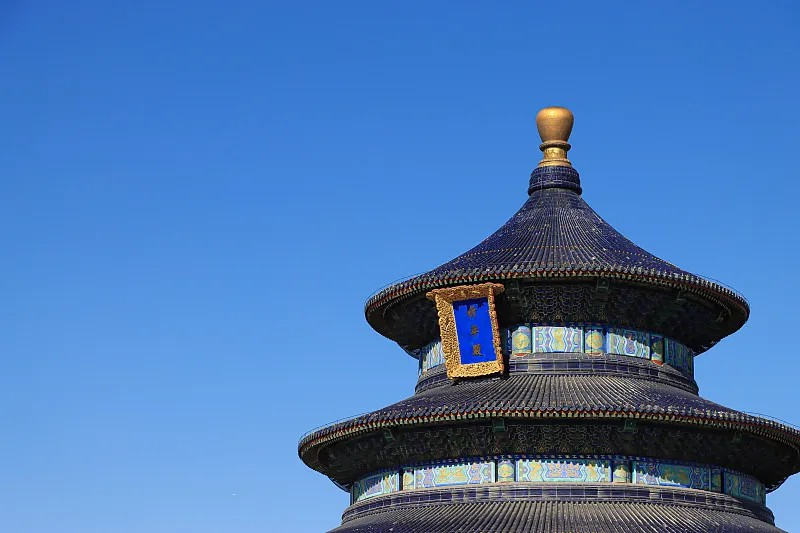Heaven: (298, 105, 800, 533)
